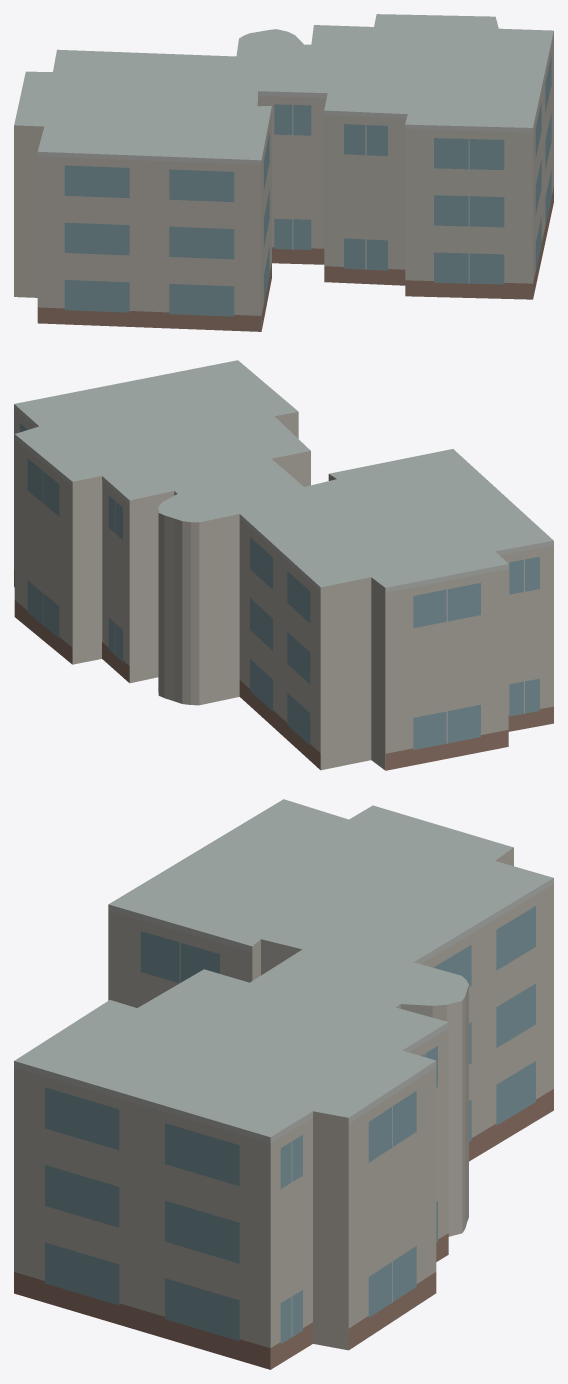
File: survey-upis-32678037.glb
3 renders of one model, top to bottom at view 1: azimuth 30°, elevation 25°; view 2: azimuth 150°, elevation 25°; view 3: azimuth 270°, elevation 25°, orthographic. The views are drawn at different scales.
Visible parts, largest first — view 1: survey-upis-32678037.tmp; view 2: survey-upis-32678037.tmp; view 3: survey-upis-32678037.tmp.
Boxes of the visible parts, x1=… form: survey-upis-32678037.tmp: x1=14, y1=14, x2=553, y2=331; survey-upis-32678037.tmp: x1=14, y1=360, x2=553, y2=770; survey-upis-32678037.tmp: x1=14, y1=799, x2=553, y2=1369.
Size of the model in its own units: 28.54 by 9.15 by 19.26.
